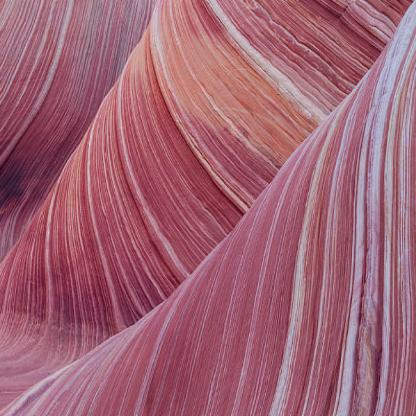Sedimentary_Sandstone: (2, 0, 416, 415)
